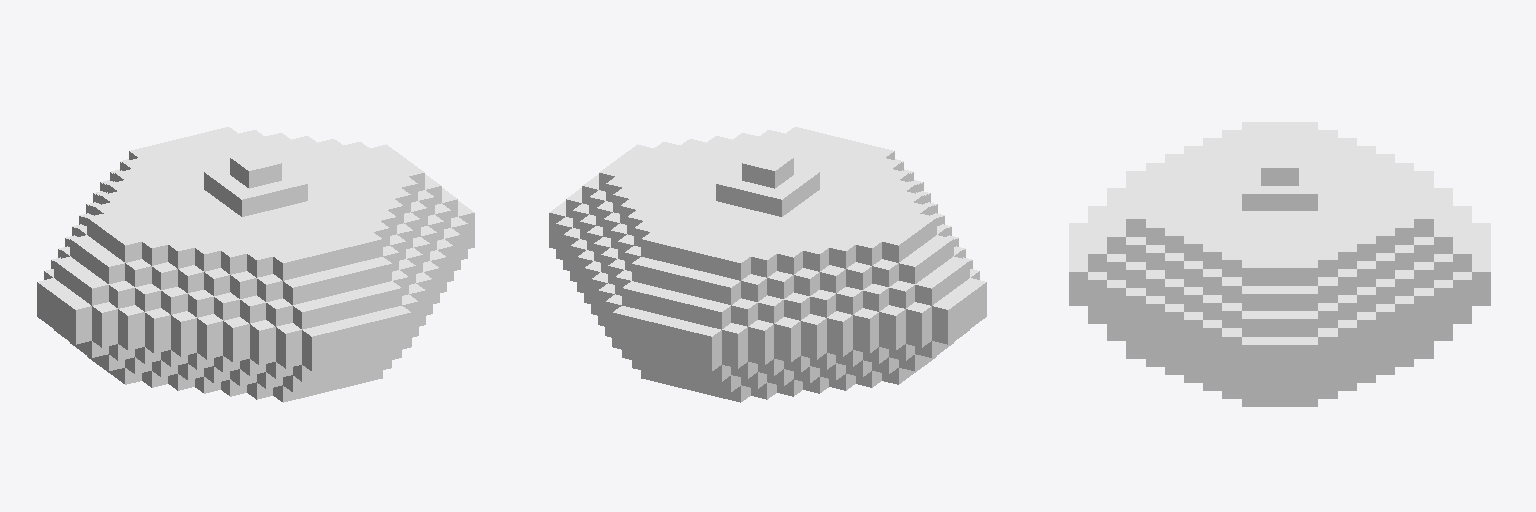
The model's file is UFO.obj.
The picture shows the model from 3 angles: view 1: azimuth 30°, elevation 25°; view 2: azimuth 150°, elevation 25°; view 3: azimuth 270°, elevation 25°; orthographic projection.
Visible parts, largest first — view 1: object 1; view 2: object 1; view 3: object 1.
Part boxes in pixels (left/top/right/bottom): object 1: left=37, top=127, right=474, bottom=402; object 1: left=549, top=127, right=986, bottom=402; object 1: left=1069, top=122, right=1490, bottom=406.
Bounding box in the file's own units: 2.4 × 1.1 × 2.2.